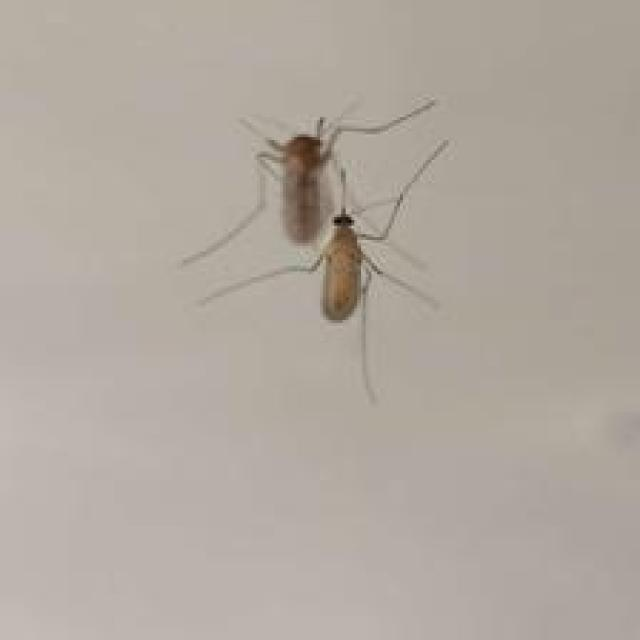Culex: (177, 91, 452, 406)
